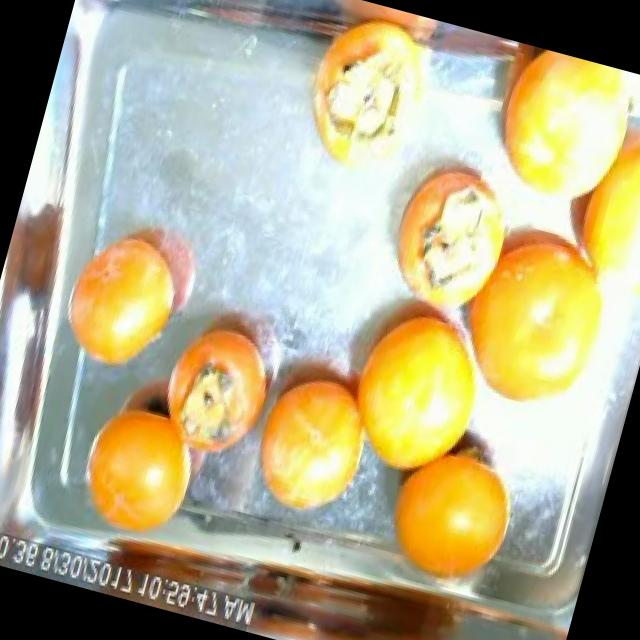Fruit: (429, 204, 640, 441), (328, 281, 510, 504), (42, 192, 228, 404), (360, 412, 538, 611), (232, 330, 394, 540), (56, 370, 221, 558), (143, 283, 297, 484)
